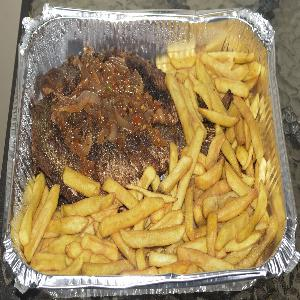fries: (28, 180, 278, 272)
